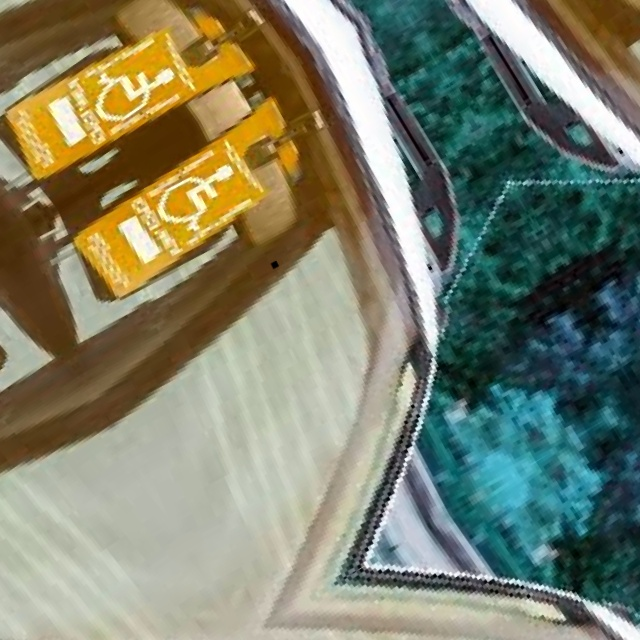ISA: (70, 31, 190, 136), (141, 147, 261, 252)
